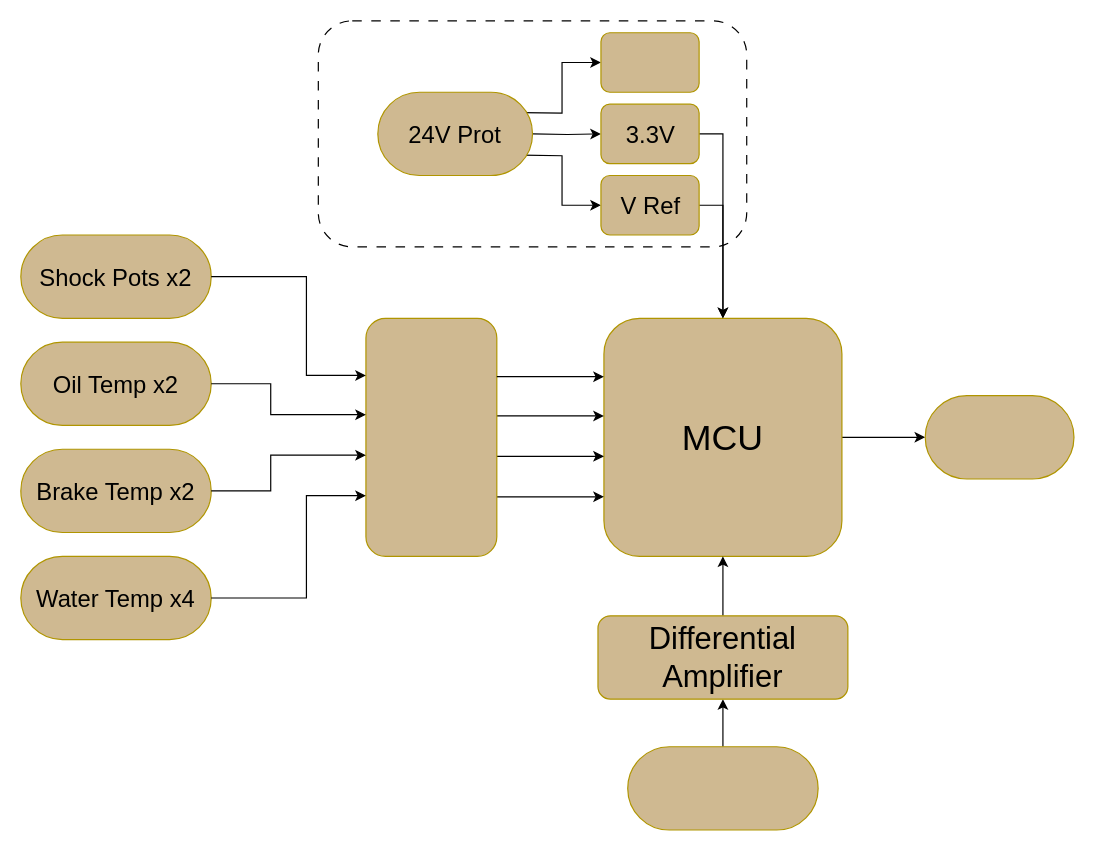
The diagram is 1095 pixels wide and 851 high, and some of its shapes have lost their labels. Each missing label, with the centre of its shape:
5V: [649,62]
Analog Buffer: [431,436]
Load Cells x4: [722,788]
VCAN: [999,436]
